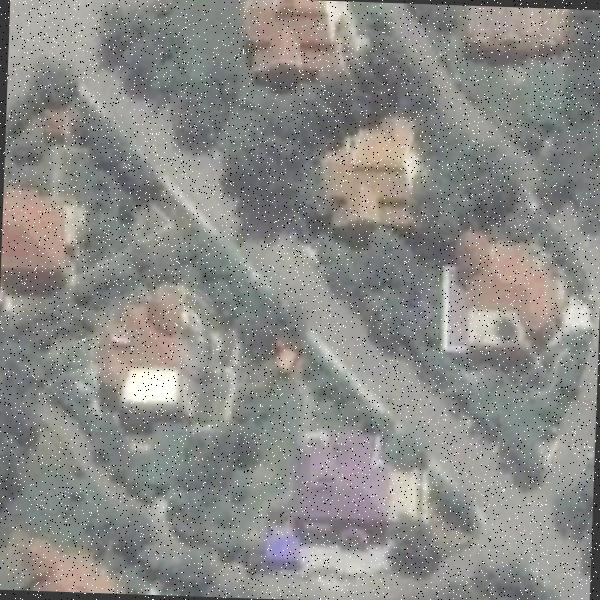Buildings: (444, 237, 564, 365), (322, 116, 424, 231), (106, 294, 198, 410), (241, 0, 365, 81), (292, 436, 390, 530), (21, 536, 168, 596), (4, 198, 70, 288), (464, 6, 576, 58), (274, 352, 294, 371)
